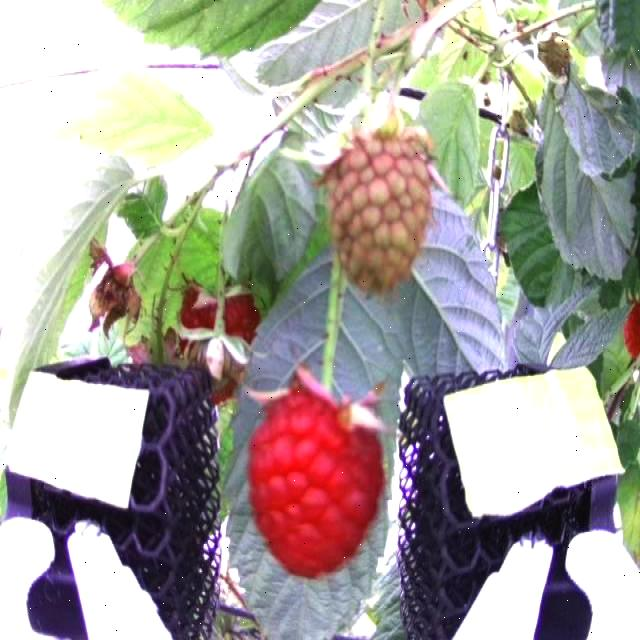Riped berries: (244, 365, 388, 580), (181, 272, 260, 400), (621, 294, 640, 365)
